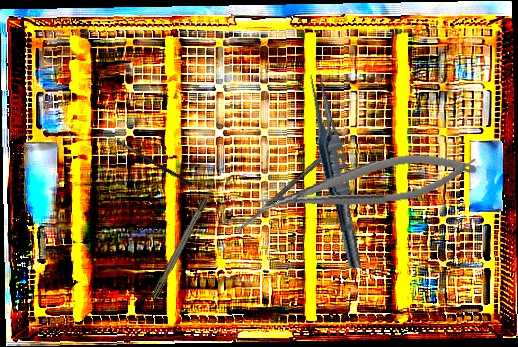Hook Surgical: (150, 179, 219, 300), (94, 128, 194, 188)
Needle Holder: (252, 145, 482, 222)
Surgical Spoon: (233, 145, 336, 235)
Tissue Forceps: (300, 69, 371, 271)
